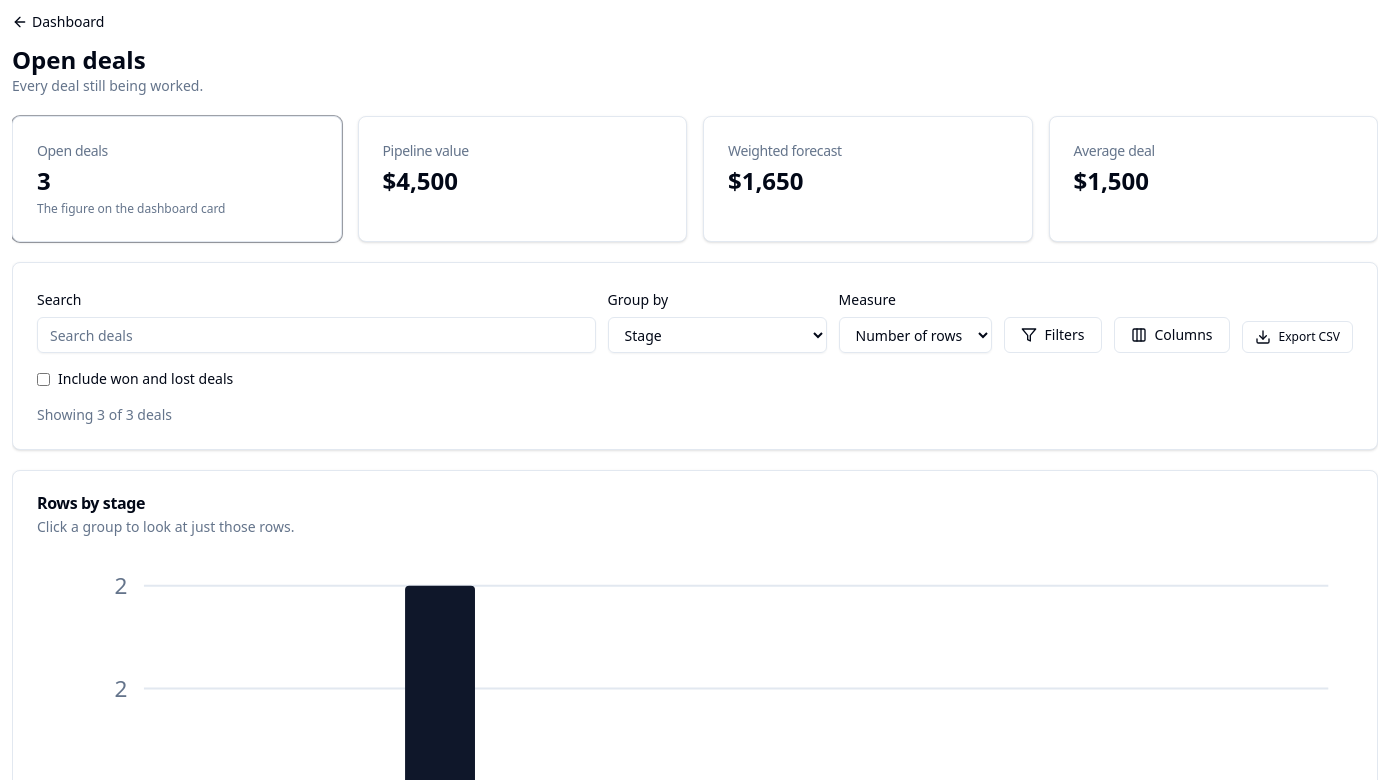
Scenario: Analyse: open deals › includes won and lost deals when asked, and relabels the figures so they do not claim to be the pipeline
Step 1. Click the checkbox labelled "Include won and lost deals" → (44, 379), box [37,372,50,386]
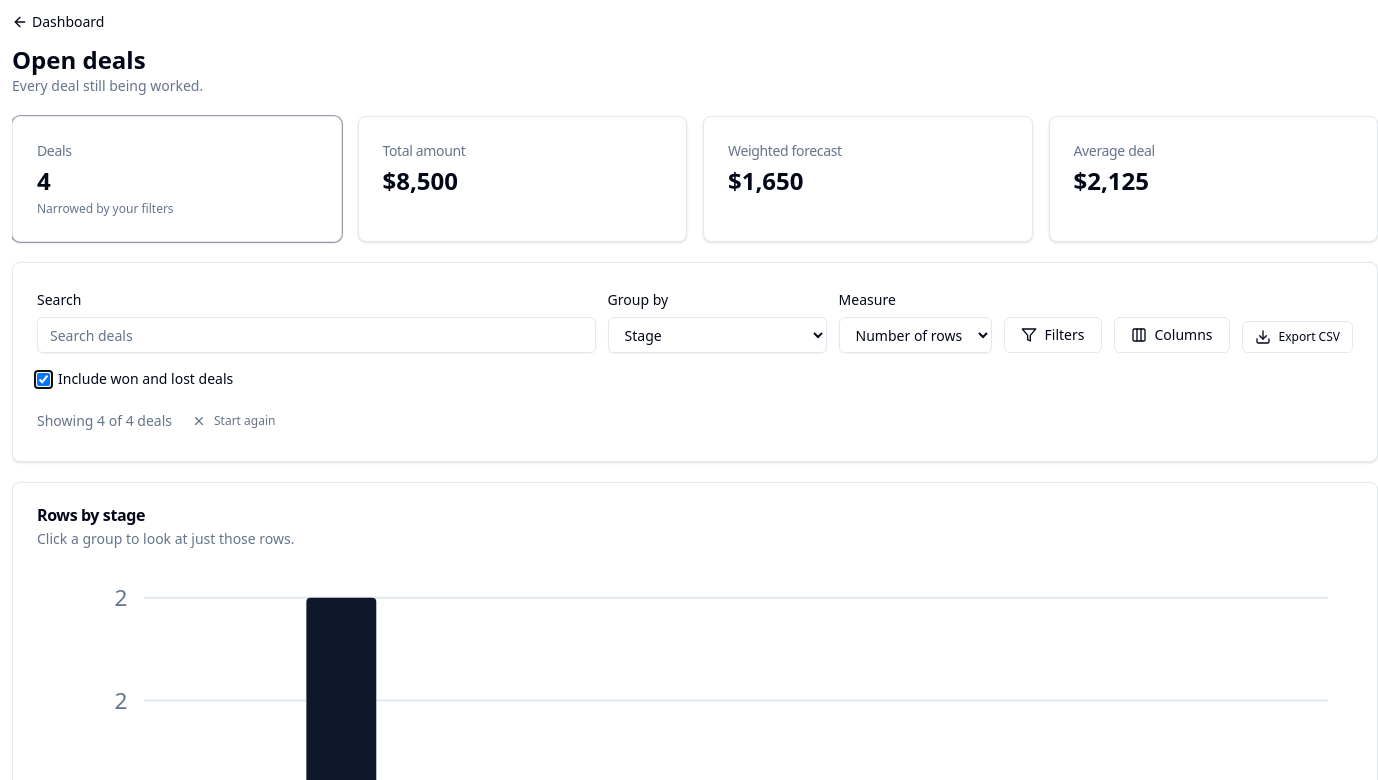
expect the text "Pipeline value" is gone: met
